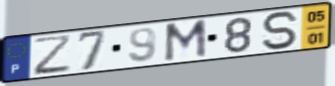7: (76, 29, 108, 73)
8: (223, 16, 254, 55)
9: (127, 26, 159, 64)
M: (162, 18, 209, 64)
S: (259, 10, 301, 52)
Z: (32, 33, 74, 77)
